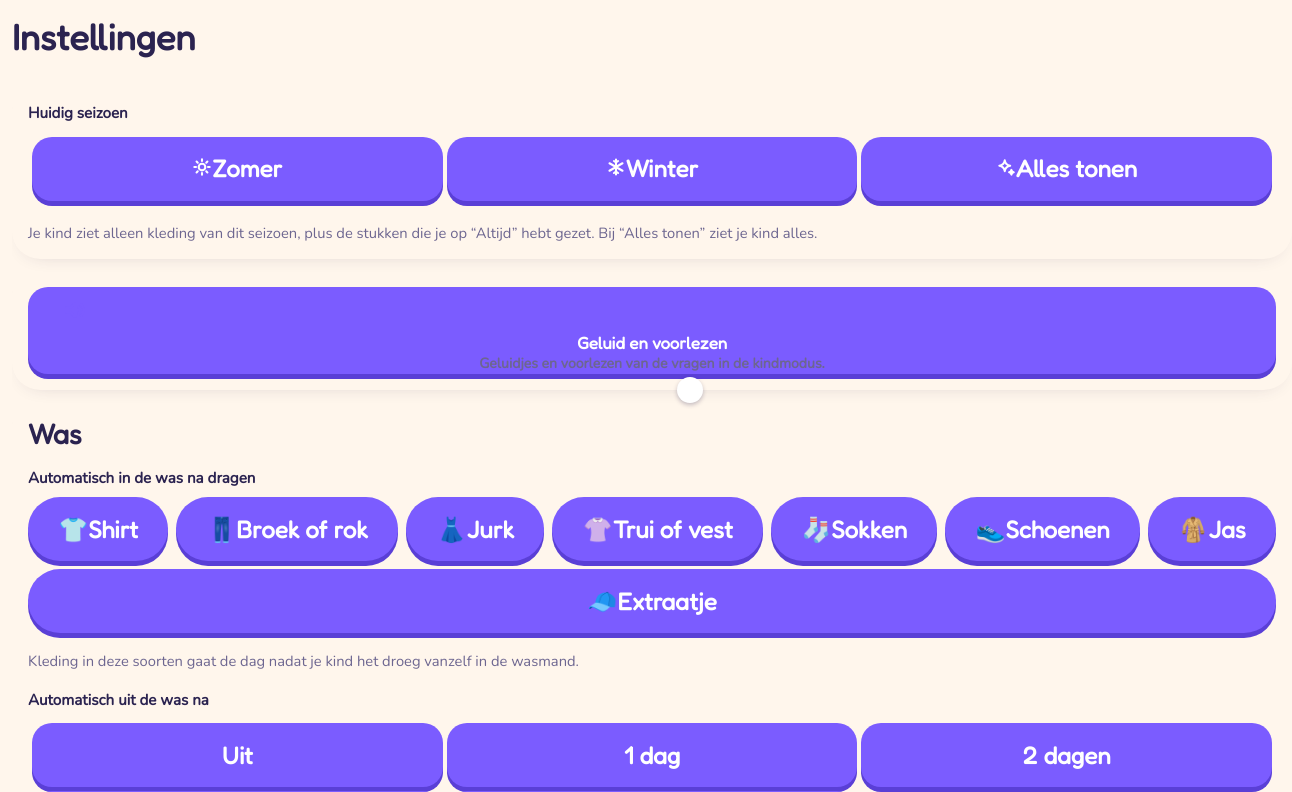
geluid en voorlezen › negeert een tweede tik zolang het opslaan bezig is
Click the switch labelled "Geluid en voorlezen".
click(652, 330)  # box left=28, top=287, right=1276, bottom=374
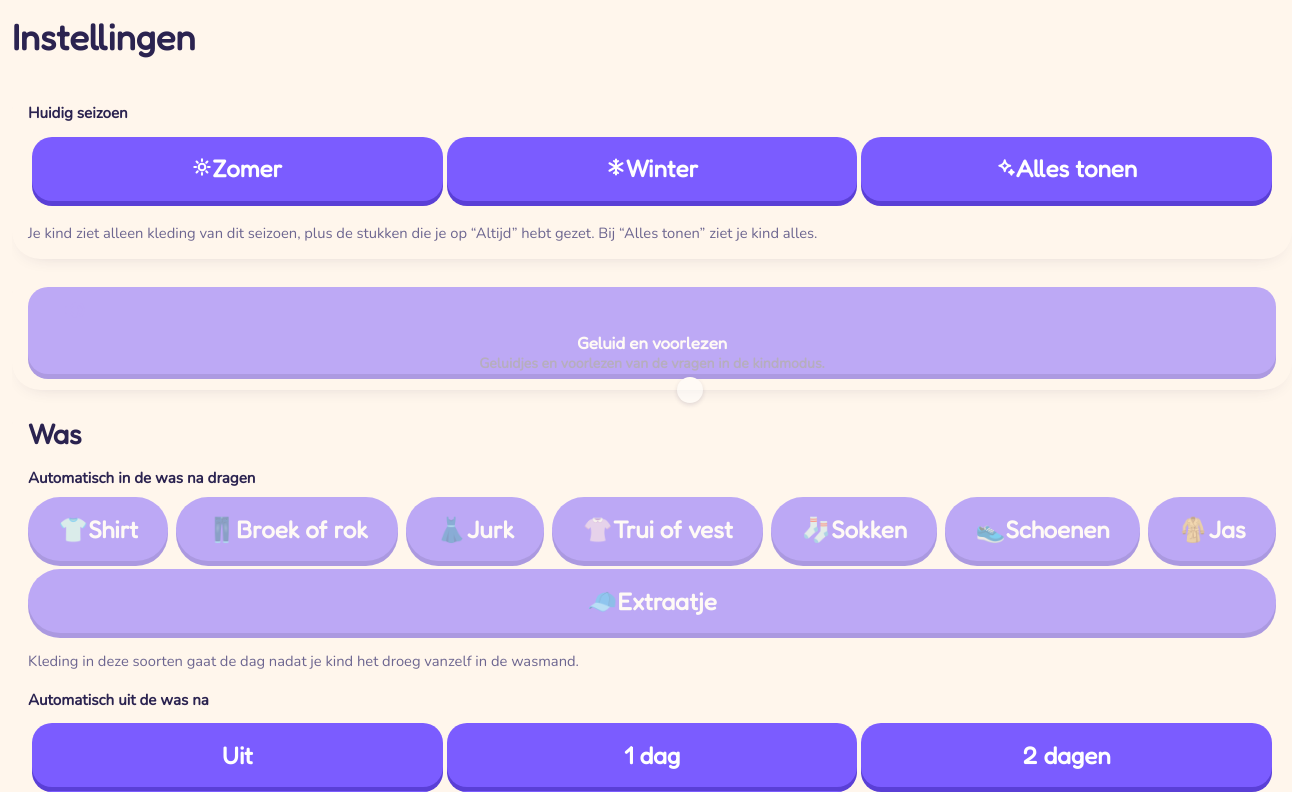
Expected: the switch labelled "Geluid en voorlezen" is disabled
Click the switch labelled "Geluid en voorlezen".
click(652, 330)  # box left=28, top=287, right=1276, bottom=374
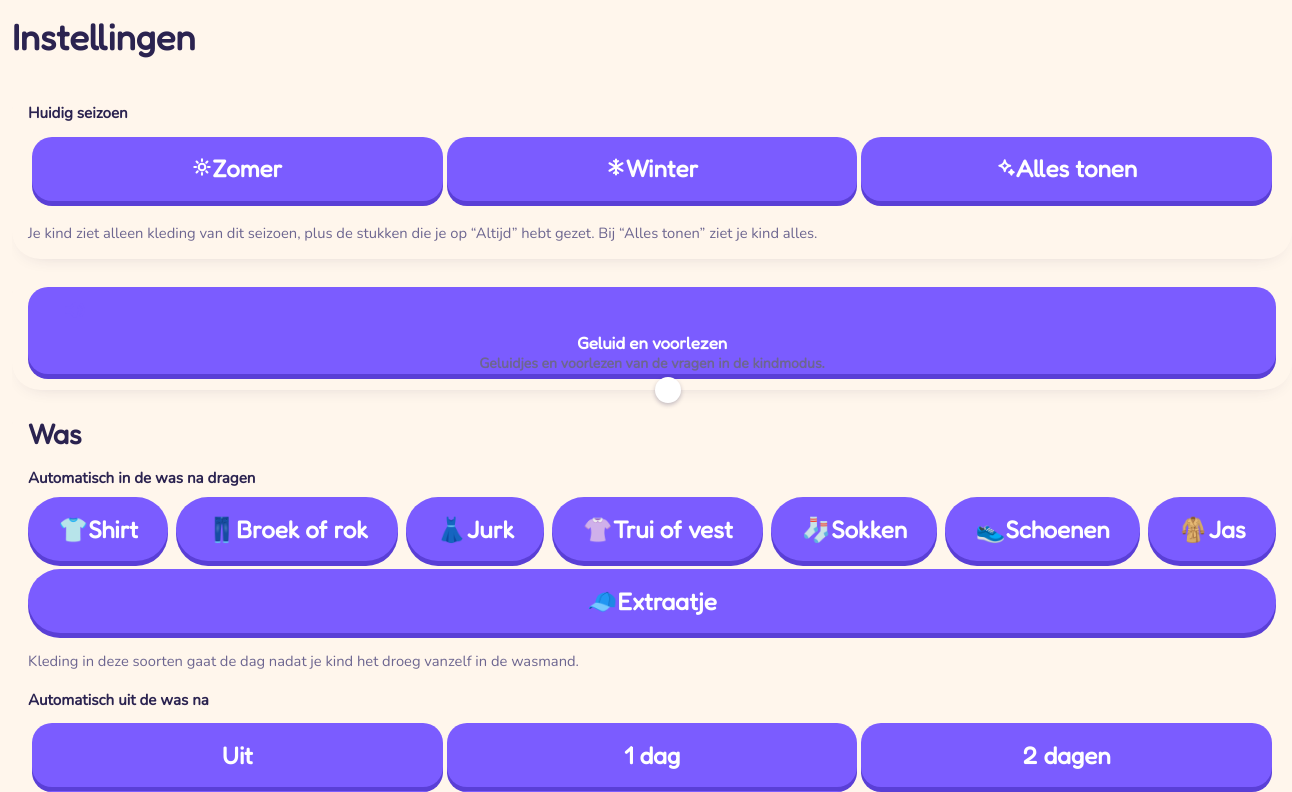
Expected: the switch labelled "Geluid en voorlezen" is enabled, left=28, top=287, right=1276, bottom=374
